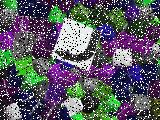Right: (52, 17, 102, 71)
